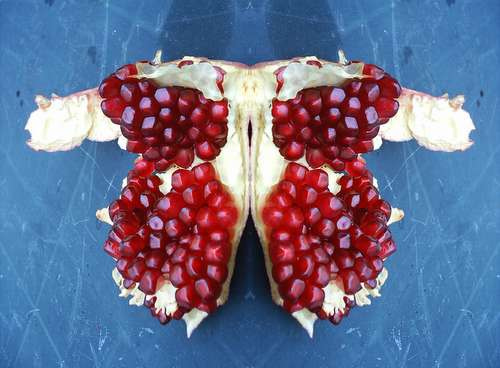pomogranate: (20, 47, 479, 343)
